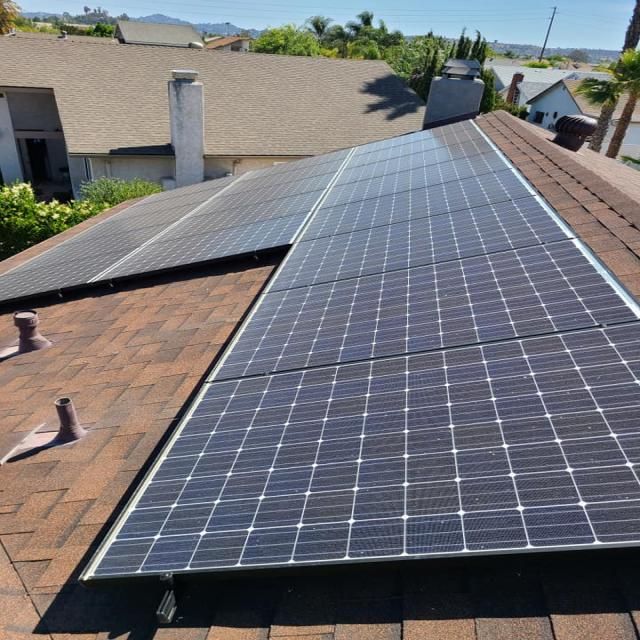dust-solar-panel: (79, 198, 640, 580)
